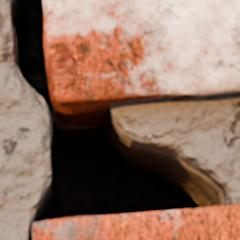brick: (44, 0, 239, 102), (33, 205, 239, 239)
crack: (2, 0, 238, 239)
